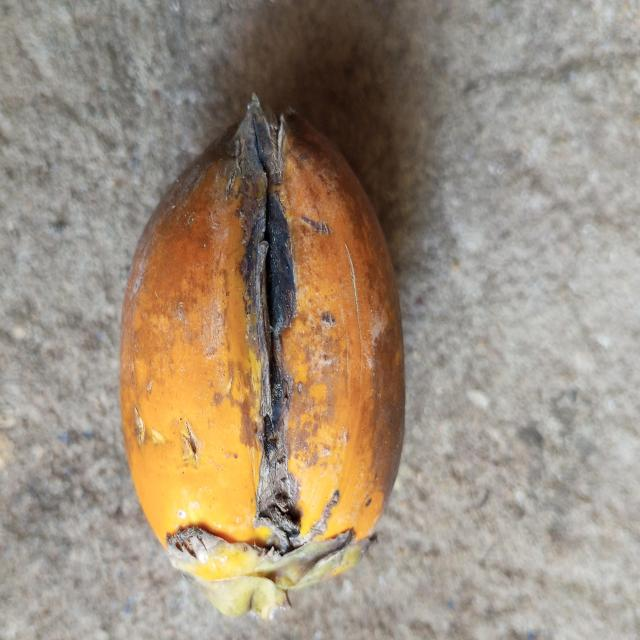damaged: (120, 94, 405, 619)
